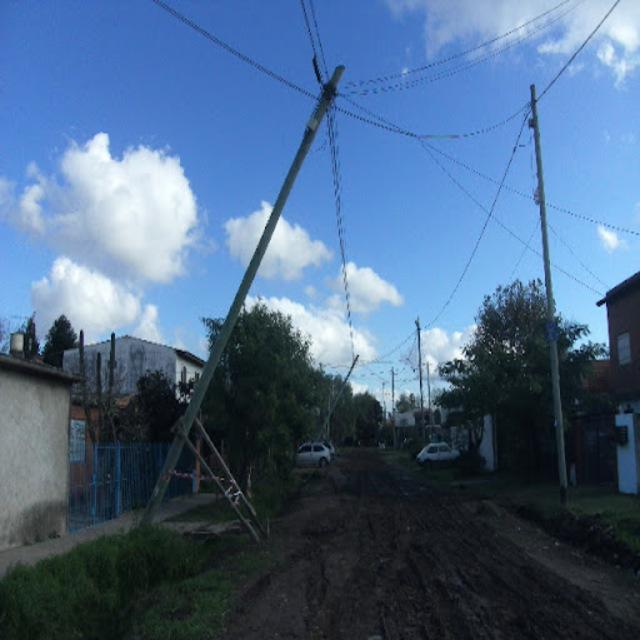Inclined Pole: (130, 62, 348, 533)
